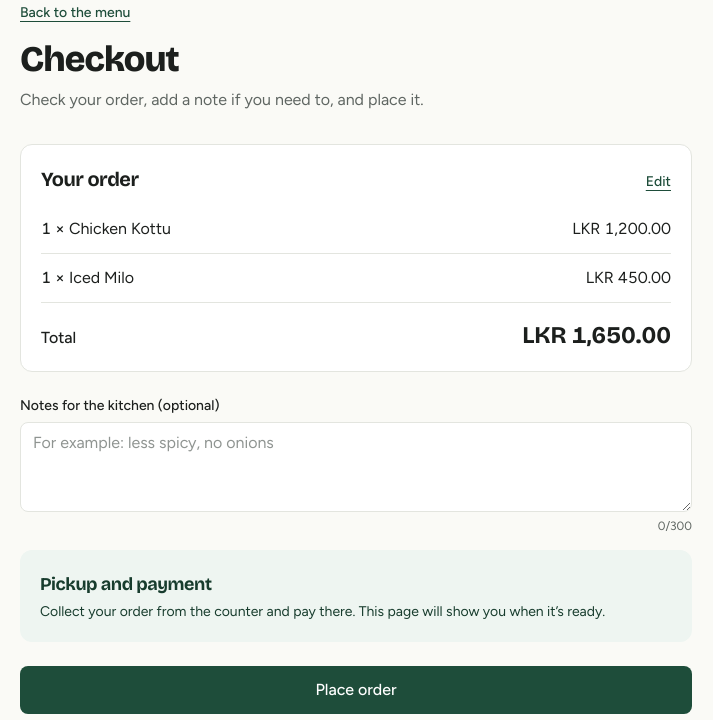
Test: CheckoutPage › shows the message straight away when the browser is offline, instead of waiting
This screenshot has width=713, height=720.
Step 1. Click the button "Place order" → (356, 690), box [20,666,692,714]
(page scrolled)
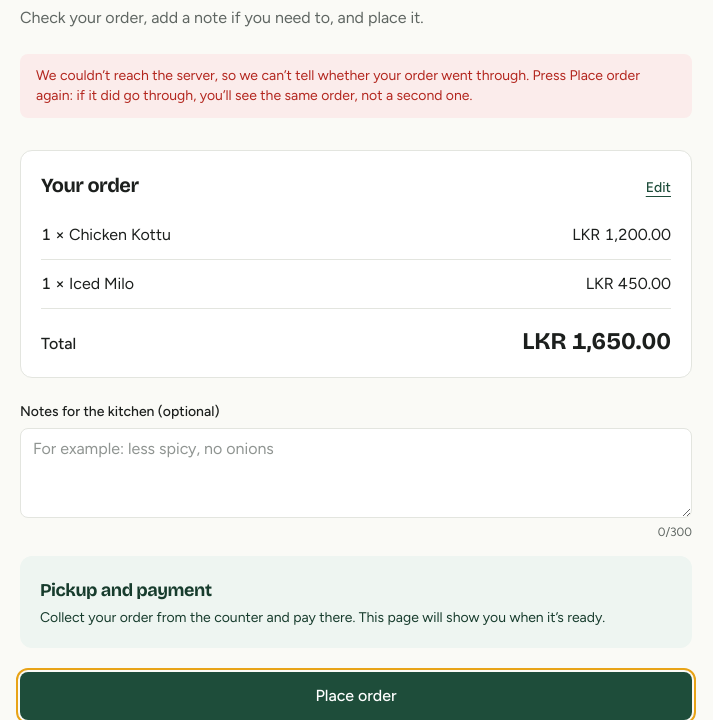
Now the message shows "can’t tell whether your order", box [36,67,640,104]
